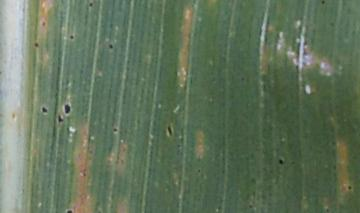tarspot: (62, 102, 73, 116), (165, 124, 174, 138), (39, 104, 48, 115), (56, 115, 66, 124), (39, 20, 48, 28), (107, 43, 115, 51), (111, 125, 119, 133), (277, 158, 285, 166), (33, 40, 40, 49), (68, 34, 76, 41), (65, 207, 74, 213), (87, 2, 95, 8), (347, 184, 353, 191), (240, 75, 246, 81), (325, 207, 331, 213), (319, 1, 326, 5)
